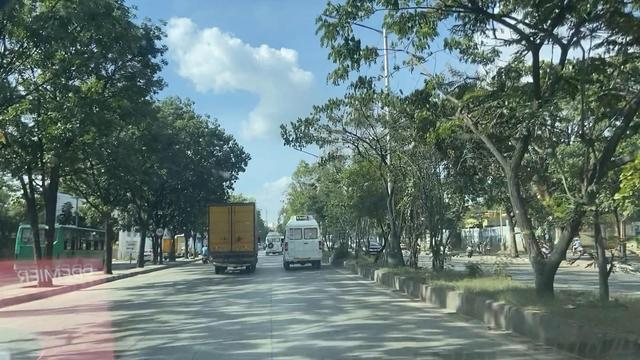HMV: (205, 203, 260, 271), (287, 213, 325, 269)
